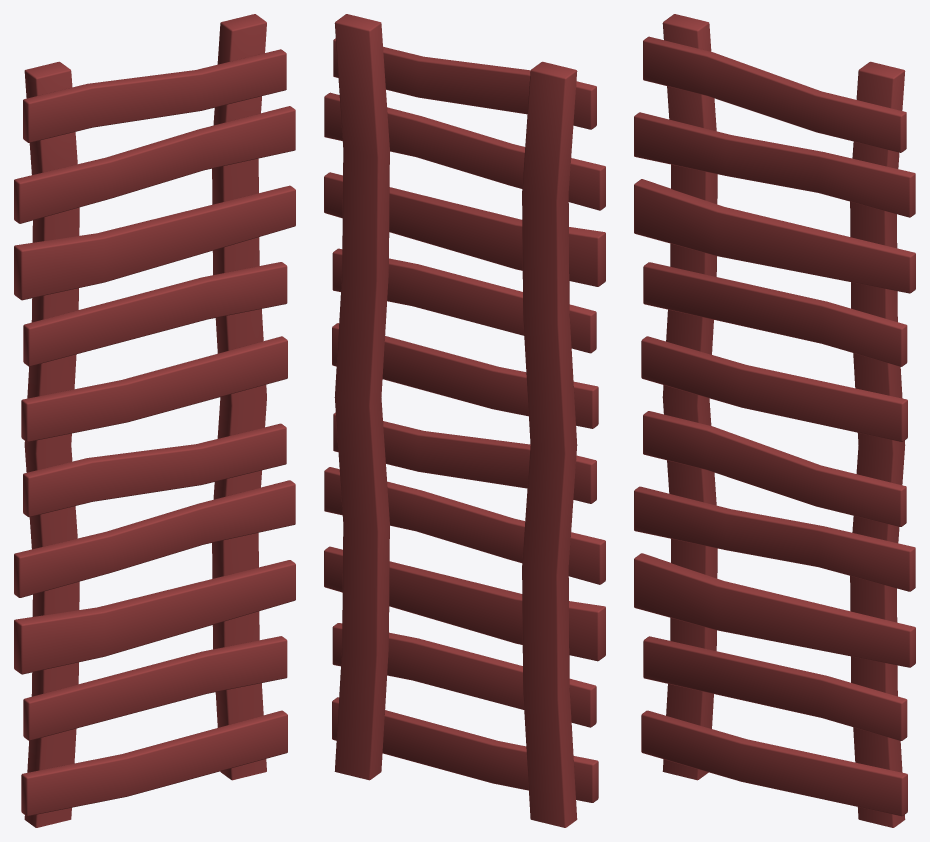
File: echelle_2blocs.fbx
The picture shows the model from 3 angles, left to right: view 1: azimuth 30°, elevation 25°; view 2: azimuth 150°, elevation 25°; view 3: azimuth 330°, elevation 25°; orthographic projection.
Parts seen in each view (by area): view 1: echelle_02_part01, echelle_02_part04, echelle_02_part10, echelle_02_part11, echelle_02_part05, echelle_02_part08, echelle_02_part02, echelle_02_part03, echelle_02_part09, echelle_02_part06, echelle_02_part12; view 2: echelle_02_part01, echelle_02_part10, echelle_02_part04, echelle_02_part05, echelle_02_part11, echelle_02_part08, echelle_02_part02, echelle_02_part03, echelle_02_part09, echelle_02_part12, echelle_02_part06; view 3: echelle_02_part01, echelle_02_part04, echelle_02_part10, echelle_02_part05, echelle_02_part11, echelle_02_part02, echelle_02_part08, echelle_02_part06, echelle_02_part12, echelle_02_part09, echelle_02_part03.
Boxes of the visible parts, x1,y1,x2,y2 form: echelle_02_part01: (24, 14, 266, 827); echelle_02_part04: (14, 560, 295, 674); echelle_02_part10: (14, 185, 295, 300); echelle_02_part11: (14, 106, 295, 223); echelle_02_part05: (14, 480, 295, 597); echelle_02_part08: (21, 336, 287, 442); echelle_02_part02: (21, 710, 287, 816); echelle_02_part03: (23, 636, 287, 740); echelle_02_part09: (23, 262, 287, 366); echelle_02_part06: (23, 423, 286, 517); echelle_02_part12: (23, 49, 286, 142); echelle_02_part01: (334, 14, 577, 827); echelle_02_part10: (324, 172, 605, 286); echelle_02_part04: (324, 546, 605, 661); echelle_02_part05: (324, 467, 605, 584); echelle_02_part11: (324, 92, 605, 210); echelle_02_part08: (332, 323, 598, 428); echelle_02_part02: (332, 697, 598, 802); echelle_02_part03: (332, 623, 596, 727); echelle_02_part09: (332, 248, 596, 353); echelle_02_part12: (333, 38, 596, 129); echelle_02_part06: (333, 412, 596, 503); echelle_02_part01: (662, 14, 905, 827); echelle_02_part04: (634, 553, 915, 667); echelle_02_part10: (634, 179, 915, 293); echelle_02_part05: (634, 486, 915, 591); echelle_02_part11: (634, 112, 915, 217); echelle_02_part02: (641, 710, 907, 816); echelle_02_part08: (641, 336, 907, 441); echelle_02_part06: (643, 411, 906, 526); echelle_02_part12: (643, 36, 906, 152); echelle_02_part09: (643, 262, 907, 366); echelle_02_part03: (643, 636, 907, 740).
Size of the model in its own units: 1.55 by 4.01 by 0.1855.
